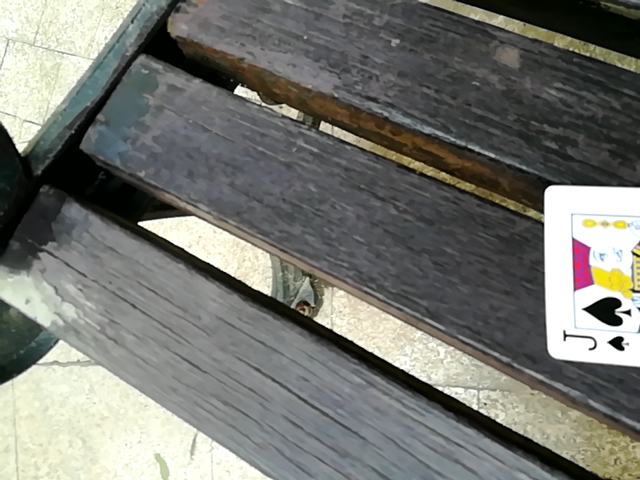ht j: (532, 183, 636, 384)
